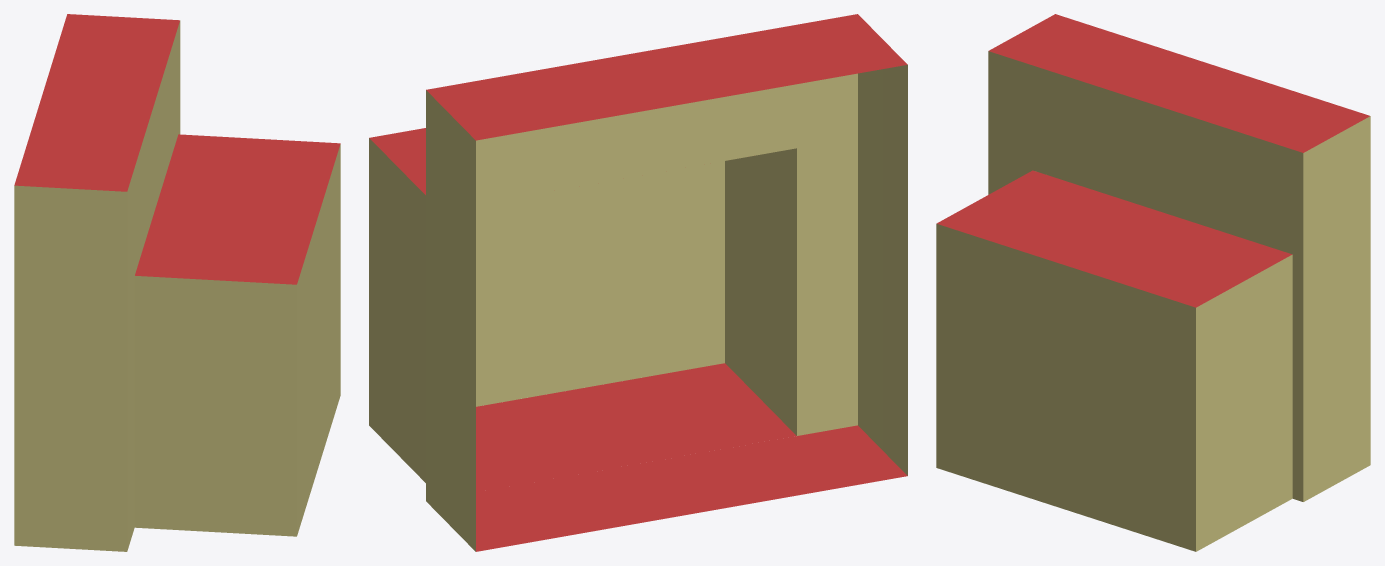
3 renders of one model, left to right at view 1: azimuth 30°, elevation 25°; view 2: azimuth 150°, elevation 25°; view 3: azimuth 270°, elevation 25°, orthographic. The views are drawn at different scales.
Parts seen in each view (by area): view 1: group_7, group_4, group_6, group_3; view 2: group_7, group_4, group_3, group_8, group_5, group_6; view 3: group_7, group_4, group_6, group_3.
Part boxes in pixels (x1=…): group_7: x1=134, y1=144, x2=340, y2=536; group_4: x1=14, y1=20, x2=180, y2=551; group_6: x1=135, y1=134, x2=340, y2=284; group_3: x1=14, y1=14, x2=179, y2=191; group_7: x1=369, y1=138, x2=796, y2=482; group_4: x1=426, y1=64, x2=907, y2=551; group_3: x1=426, y1=14, x2=907, y2=140; group_8: x1=476, y1=363, x2=796, y2=492; group_5: x1=476, y1=425, x2=907, y2=551; group_6: x1=369, y1=128, x2=425, y2=194; group_7: x1=936, y1=223, x2=1292, y2=551; group_4: x1=988, y1=51, x2=1370, y2=501; group_6: x1=937, y1=170, x2=1292, y2=307; group_3: x1=989, y1=14, x2=1369, y2=152.
Bounding box in the file's own units: 9.65 × 9.38 × 8.32.
